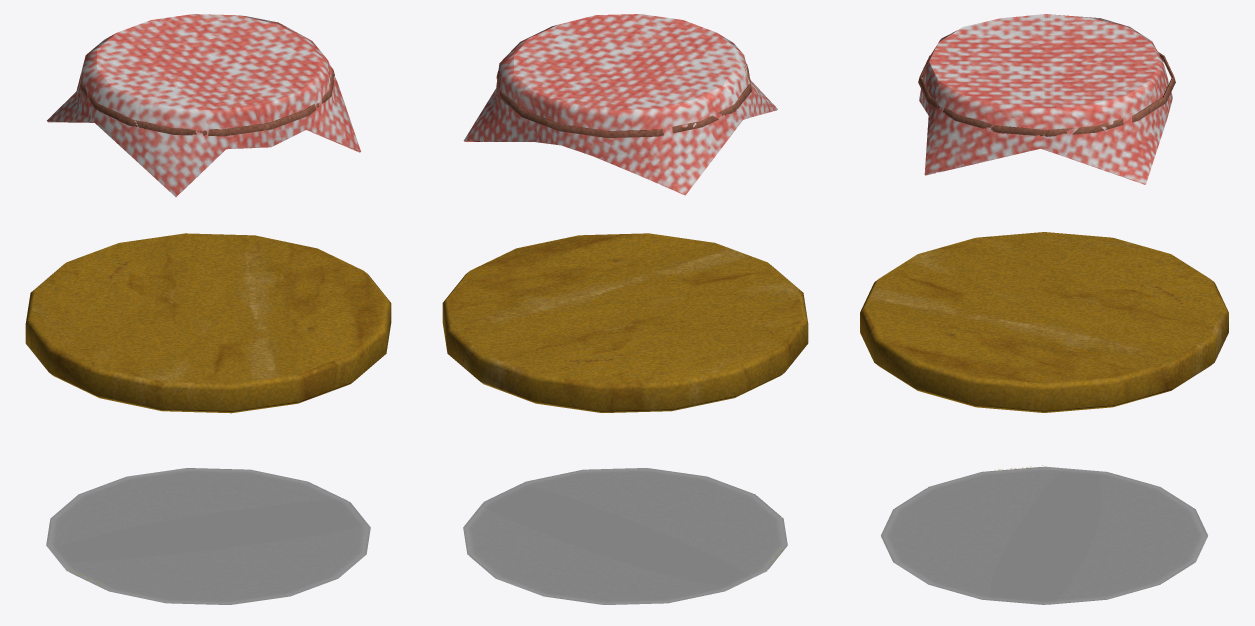
The model's file is Hilka.fbx.
3 views of the same model, side by side, from view 1: azimuth 30°, elevation 25°; view 2: azimuth 150°, elevation 25°; view 3: azimuth 270°, elevation 25° (orthographic).
Visible parts, largest first — view 1: Hilka; view 2: Hilka; view 3: Hilka.
Boxes of the visible parts, <box> form: Hilka: <box>25,14,391,604</box>; Hilka: <box>442,14,808,604</box>; Hilka: <box>860,14,1228,604</box>.
Size of the model in its own units: 200 by 270 by 200.
Materials: 1 (1 with a texture image).
